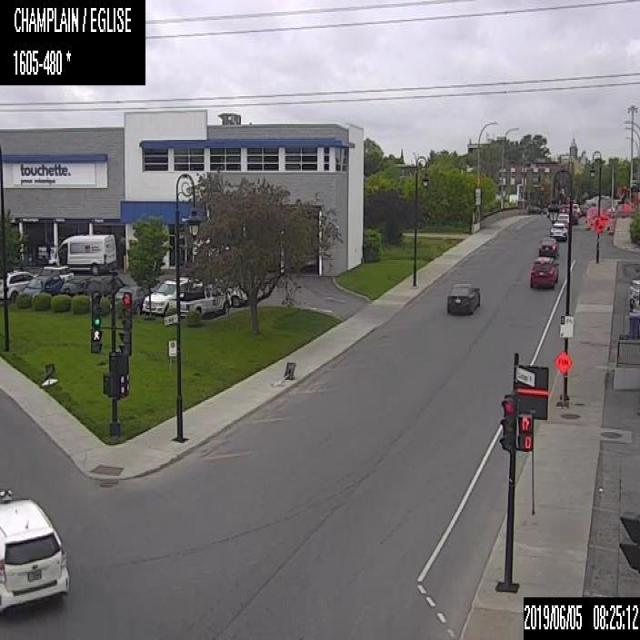construction: (270, 361, 295, 387), (40, 360, 59, 387), (554, 350, 572, 376), (592, 215, 604, 232)
vehicle: (0, 489, 70, 616), (48, 232, 116, 275), (142, 276, 202, 317), (169, 283, 231, 318), (82, 274, 124, 308), (446, 281, 480, 315), (0, 268, 33, 301), (21, 271, 64, 296), (114, 284, 148, 314), (529, 255, 559, 288), (33, 262, 74, 280), (59, 275, 91, 297), (538, 236, 558, 258), (227, 286, 248, 306), (549, 221, 567, 240), (565, 209, 577, 223), (556, 212, 568, 225), (578, 204, 588, 216), (572, 202, 579, 214), (561, 205, 568, 211)
